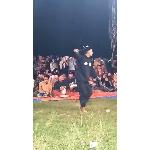Celurit: (92, 65, 112, 82), (72, 37, 91, 54)
